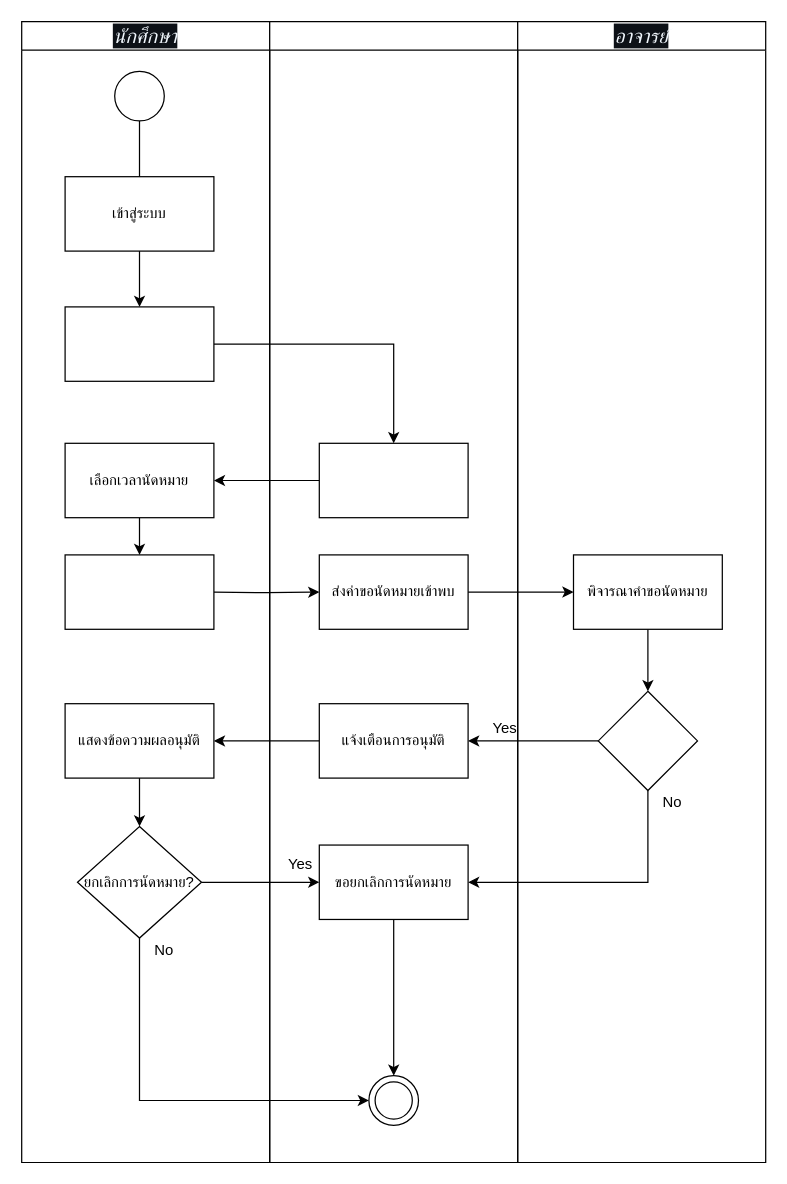
The diagram is 787 pixels wide and 1184 high, and some of its shapes have lost their labels. The shapes that lost their labels are listed below. From the top down, each one's box as (x1, y1, x2, y2) in pixels, then its label:
(64, 306, 214, 381): ค้นหาและดูเวลาว่างอาจารย์
(318, 442, 468, 518): แสดงสถานะ/เวลาว่างของอาจารย์
(64, 554, 214, 629): กรอกละเอียดการนัดหมาย
(268, 20, 518, 1162): ระบบ
(597, 690, 698, 790): อนุมัติ?
